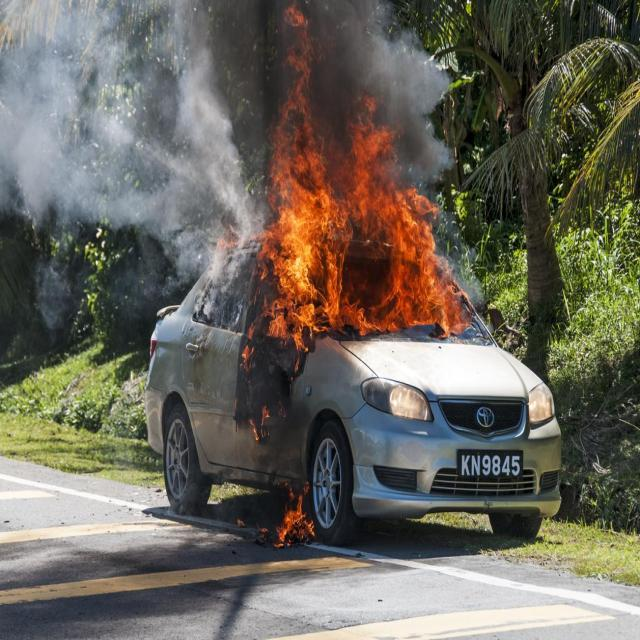Fire: (255, 4, 463, 342), (270, 478, 320, 546)
Smoke: (0, 0, 486, 317)
